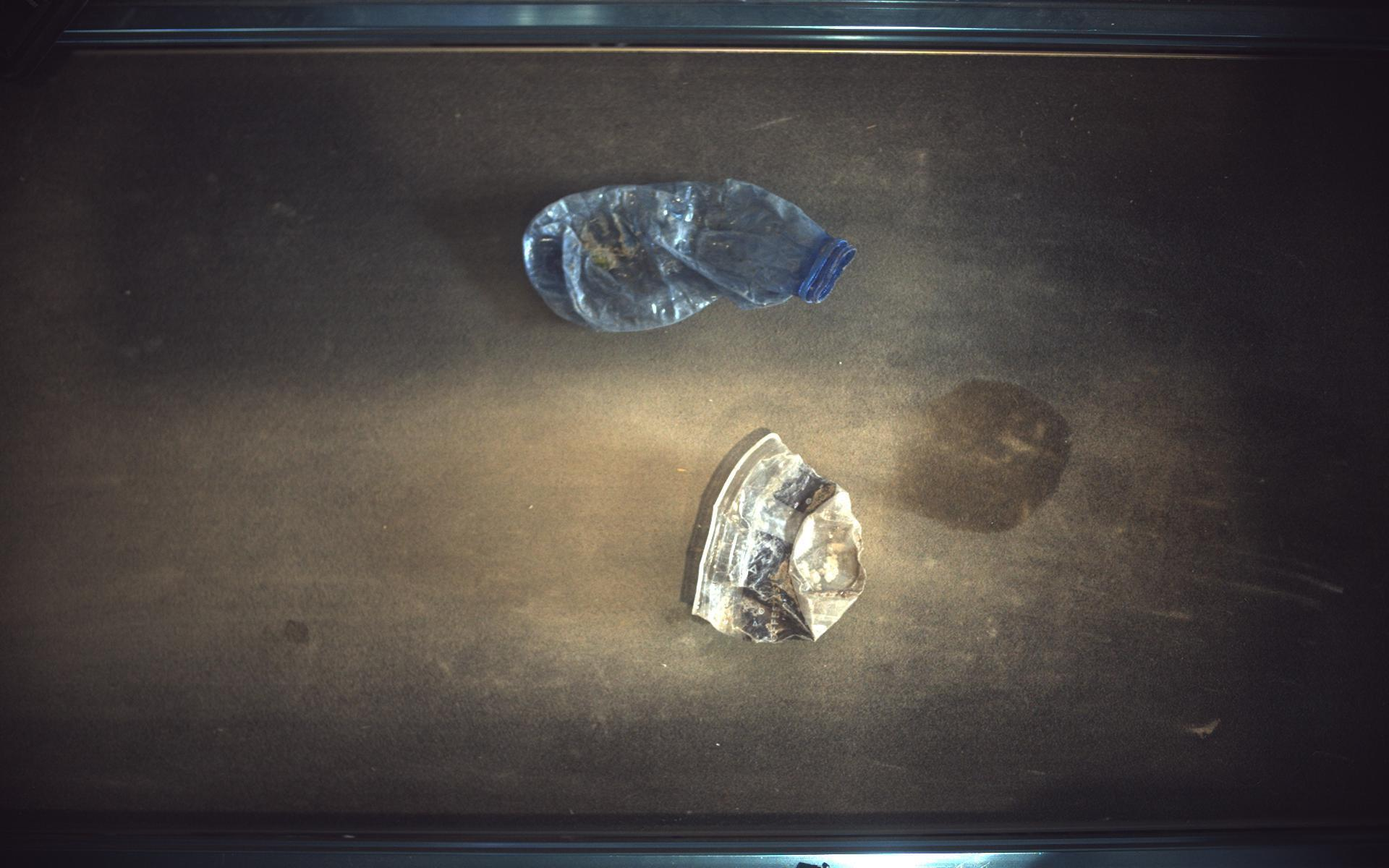general_w: (524, 178, 857, 331), (682, 428, 867, 643)
